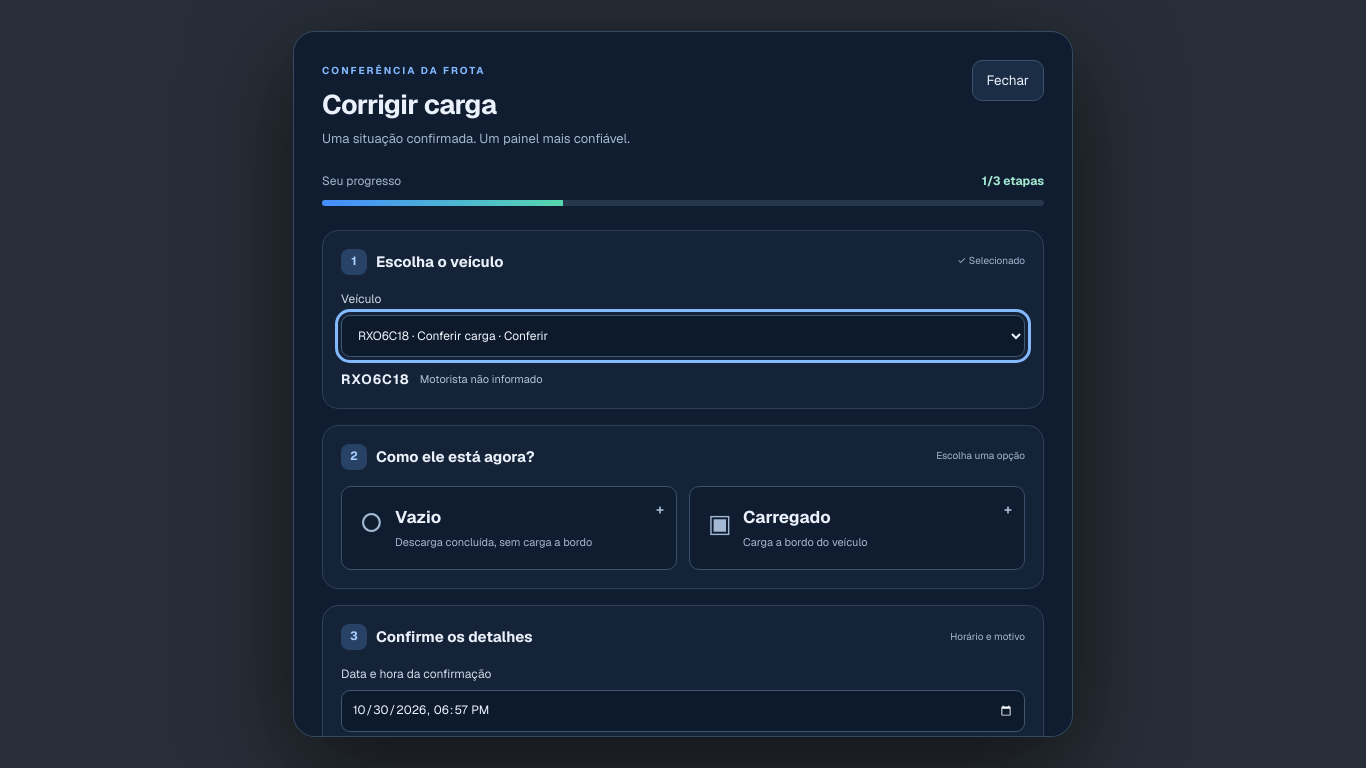
keeps the form open with the error when the operation changed
Click the button "▣ Carregado Carga a bordo do veículo +". click: (787, 517)
box: [689,486,1025,570]
(page scrolled)
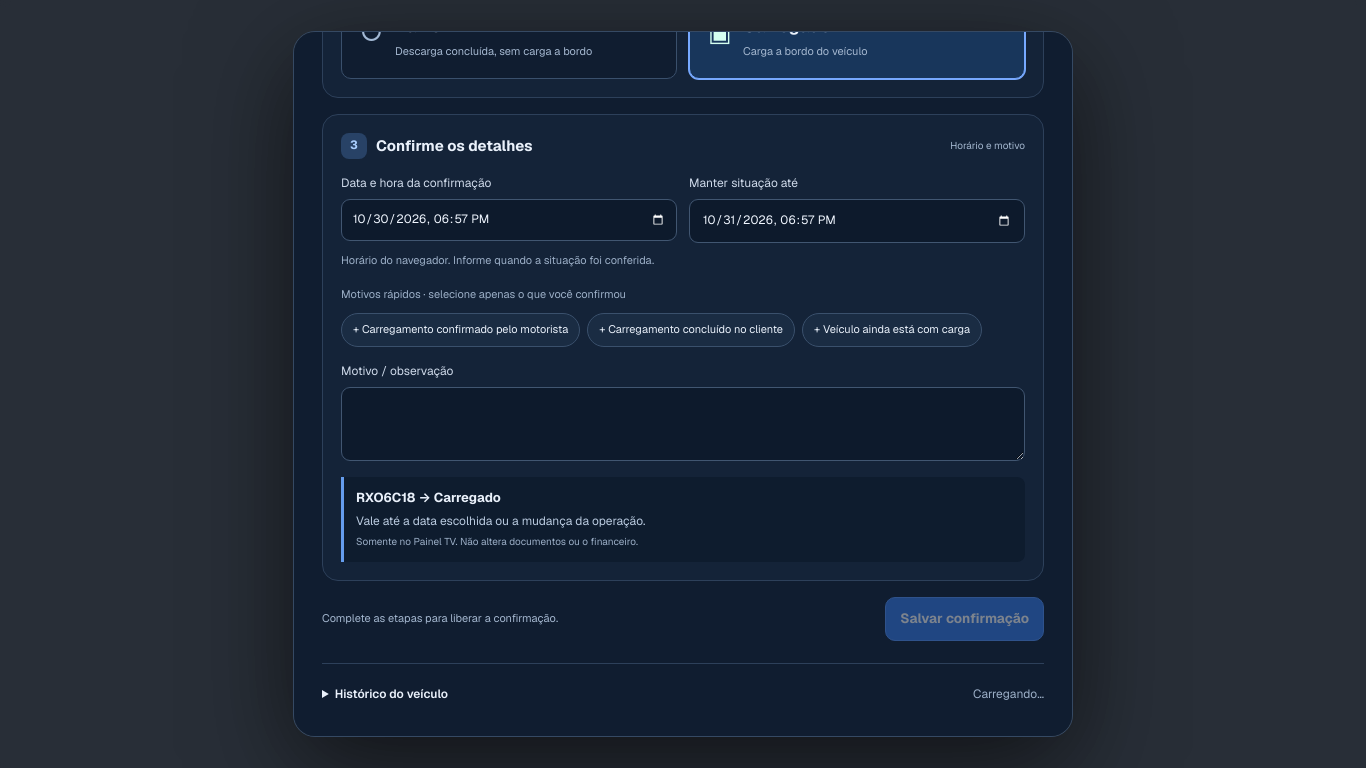
Type "Carga confirmada pelo motorista" into the text box. click: (683, 424)
box: [341,387,1025,461]
(page scrolled)
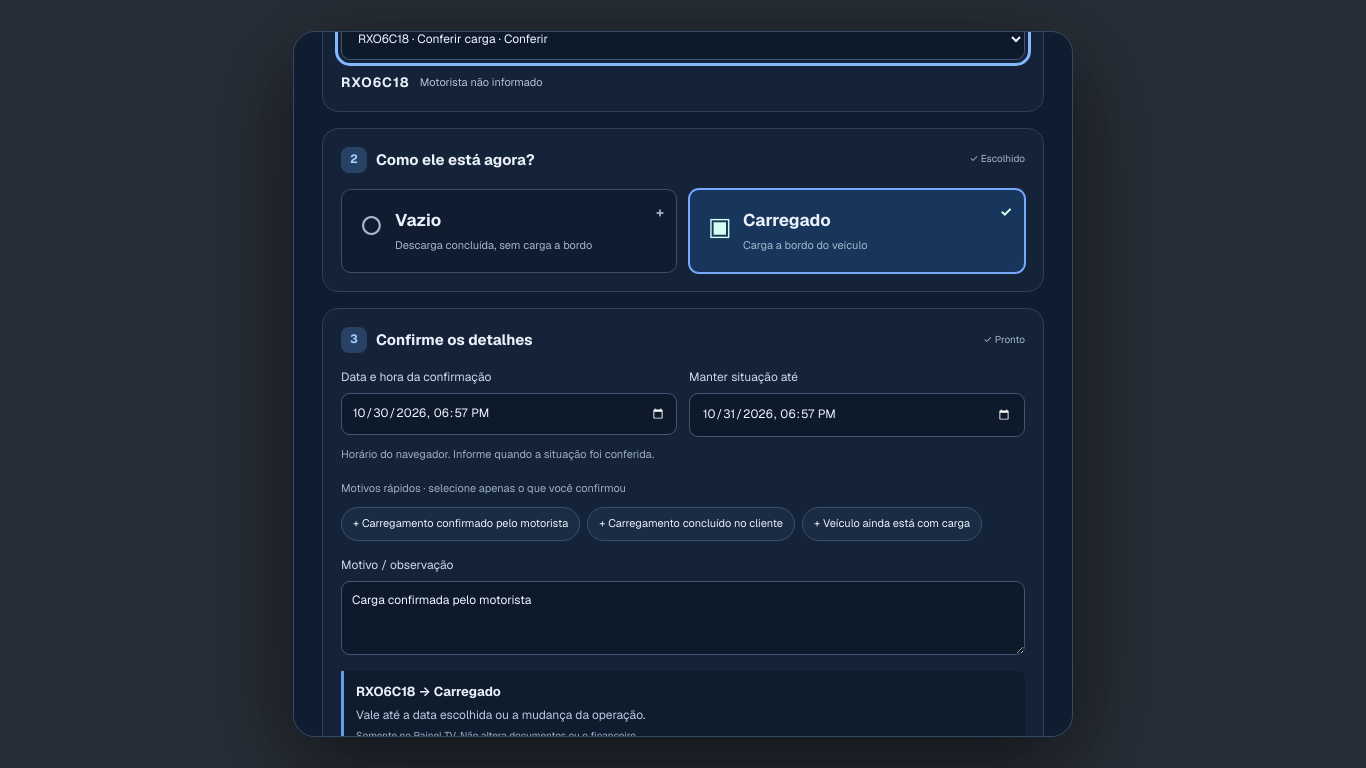
Submit the form named "Salvar confirmação"
(page scrolled)
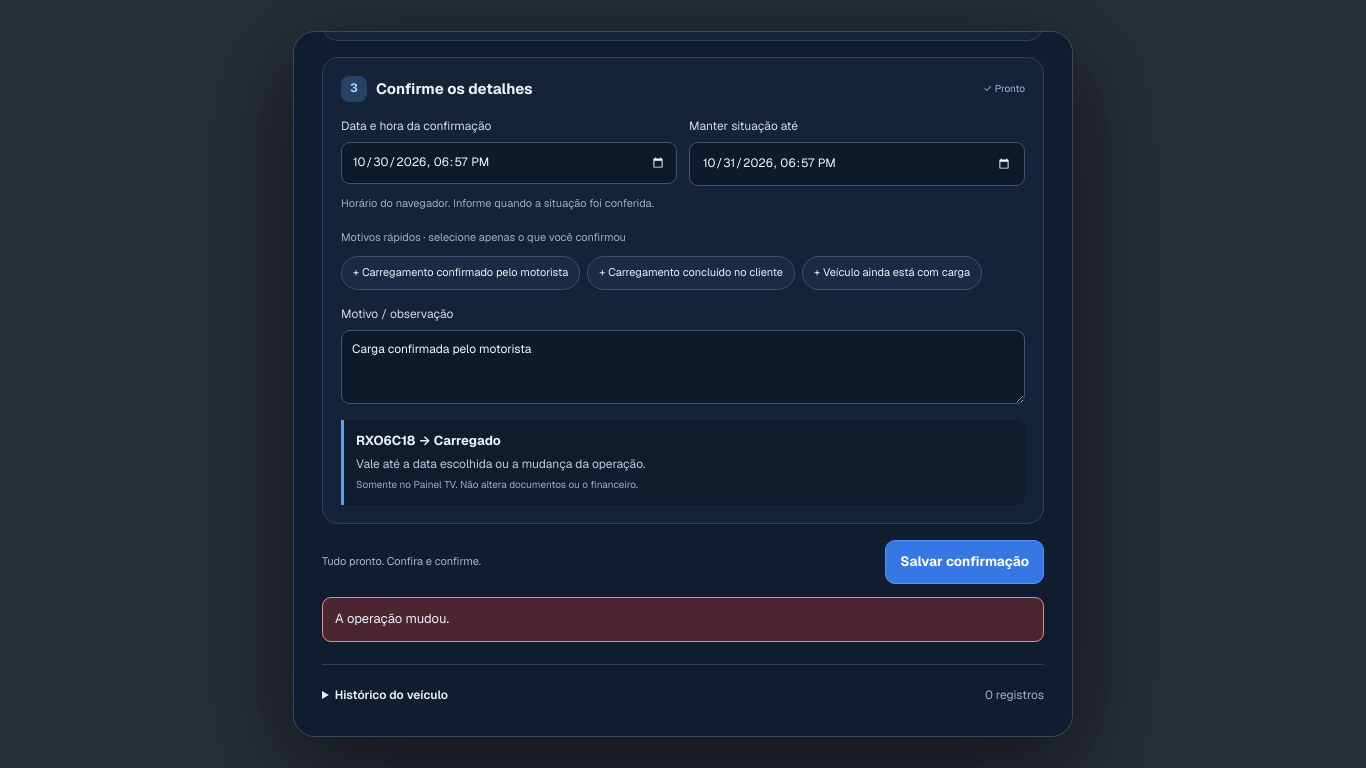
Check: the message "A operação mudou." is shown, box [322,597,1044,642]
